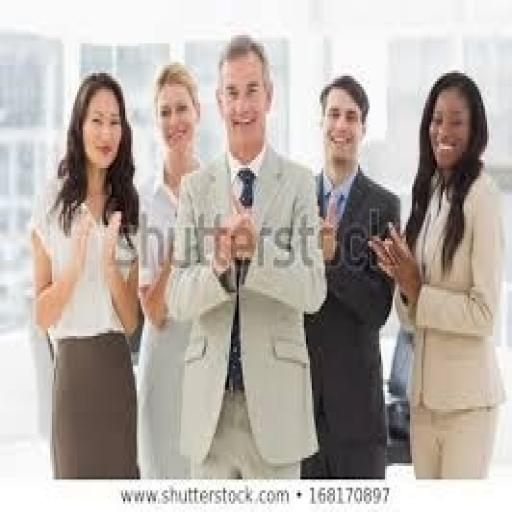clapping: (164, 32, 327, 480), (366, 68, 506, 480), (27, 70, 142, 480), (300, 73, 402, 480), (135, 60, 208, 480)
